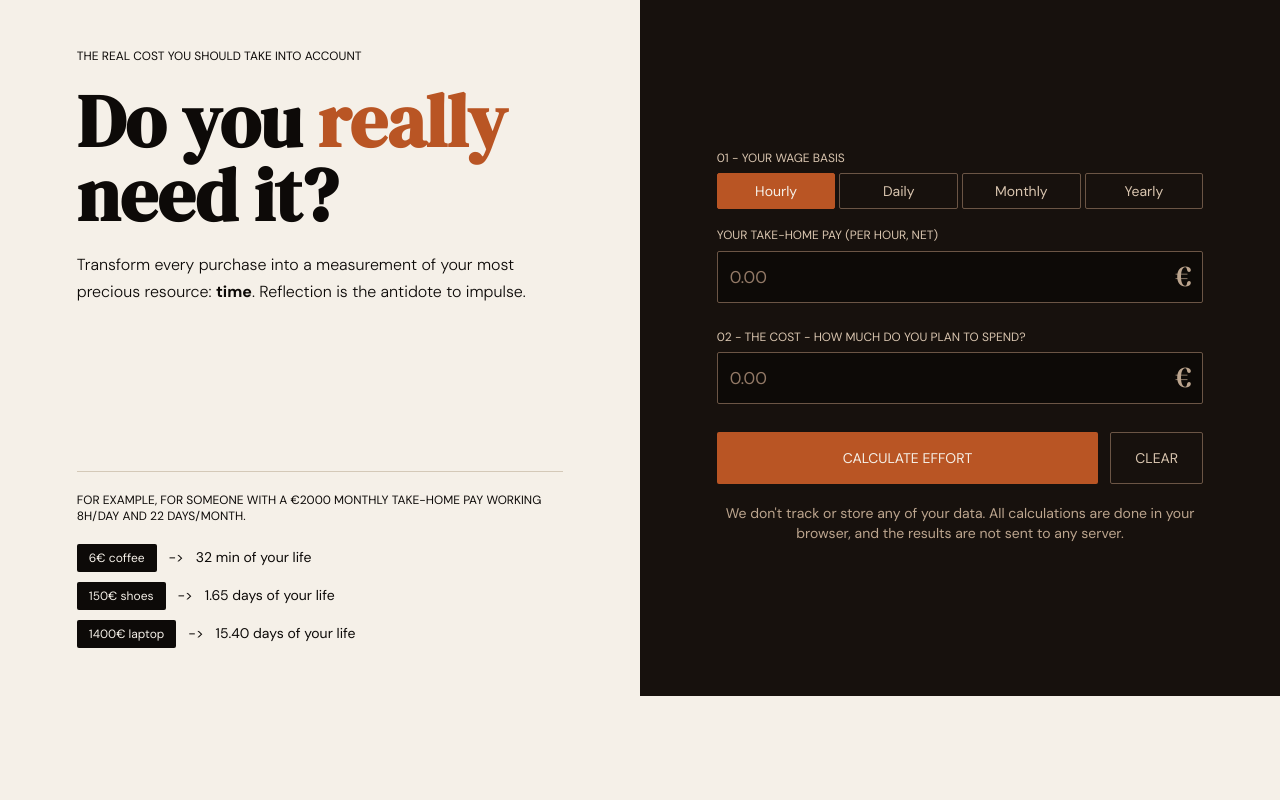
CalculatorPageContainer › shows validation messages when the user calculates with empty values
The width and height of the screenshot is (1280, 800).
Step 1. Click the button "Calculate Effort" → (908, 458), box [717, 432, 1098, 484]
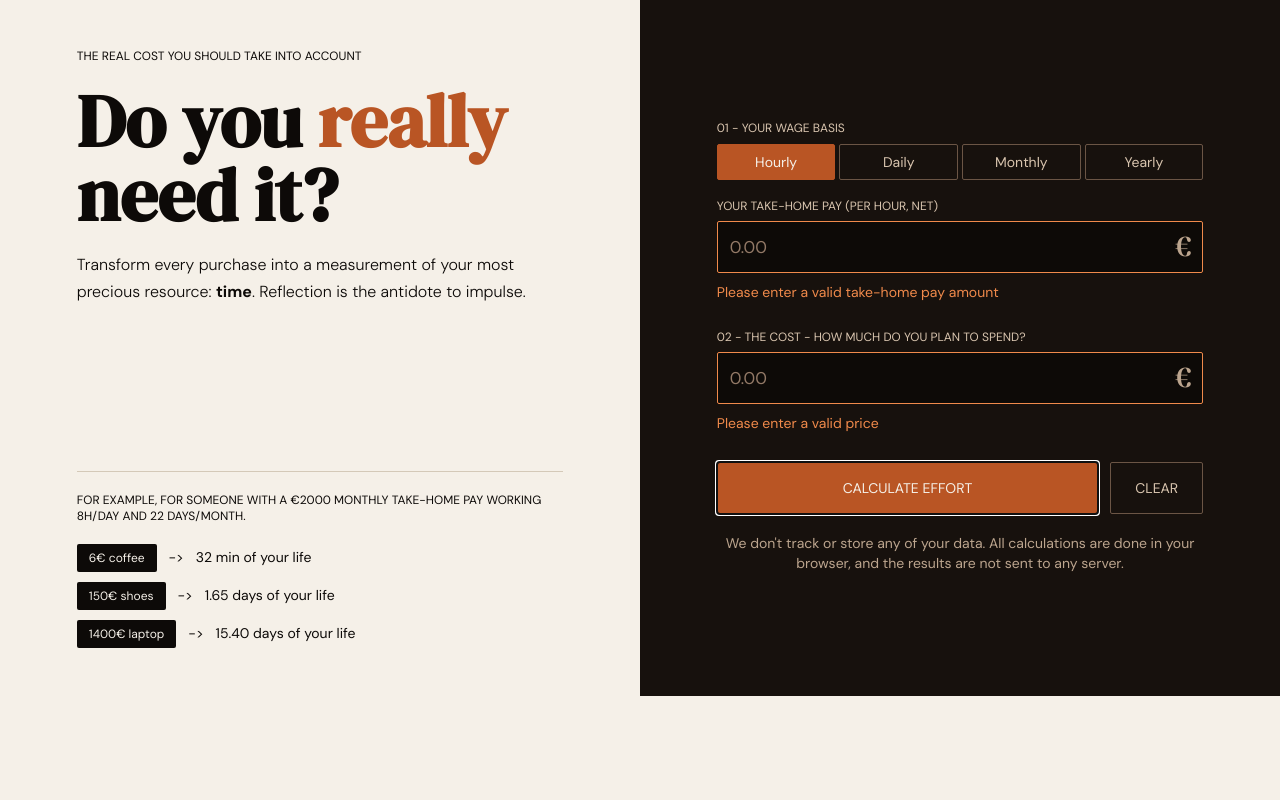
Now the text "Please enter a valid price" is shown, box [717, 415, 879, 433]
Now the text "Please enter a valid take-home pay amount" is shown, box [717, 284, 999, 302]
